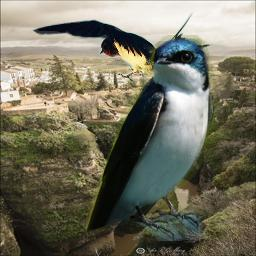Swallow: (86, 35, 218, 241), (29, 10, 244, 122)
